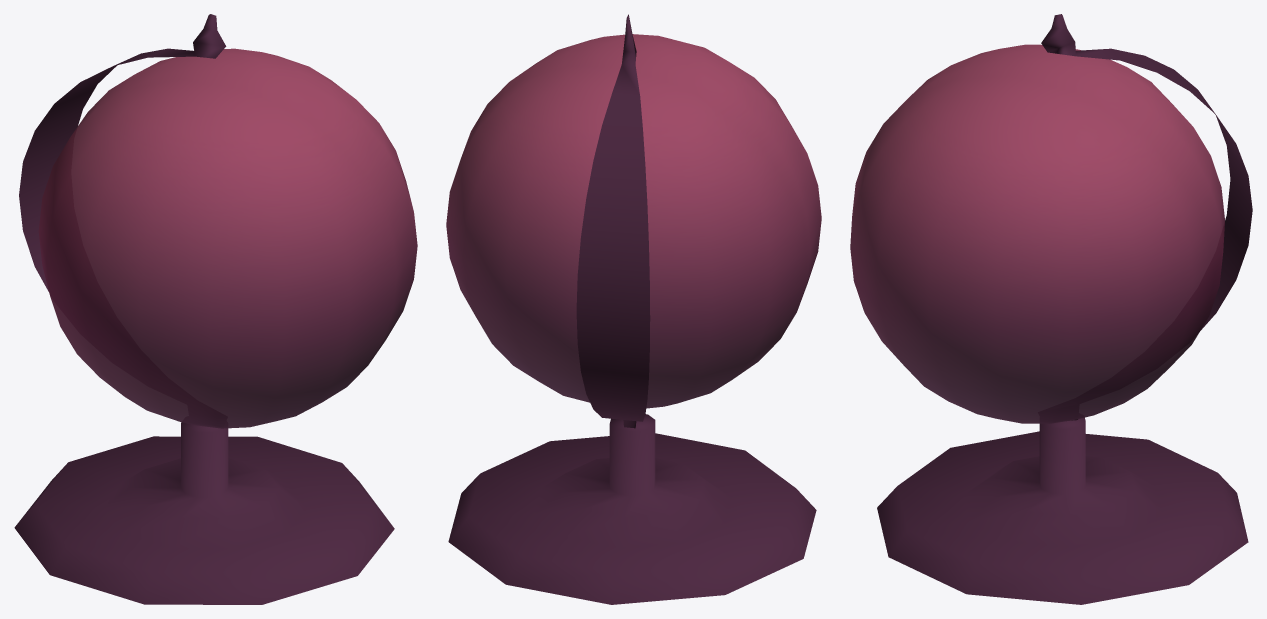
File: globe.fbx
3 views of the same model, side by side, from view 1: azimuth 30°, elevation 25°; view 2: azimuth 150°, elevation 25°; view 3: azimuth 270°, elevation 25° (orthographic).
Visible parts, largest first — view 1: Sphere; view 2: Sphere; view 3: Sphere.
Part boxes in pixels (x1,y1,x2,y2): Sphere: (14, 14, 417, 604); Sphere: (446, 14, 821, 604); Sphere: (850, 14, 1252, 604).
Size of the model in its own units: 24.22 by 35.23 by 25.02.
